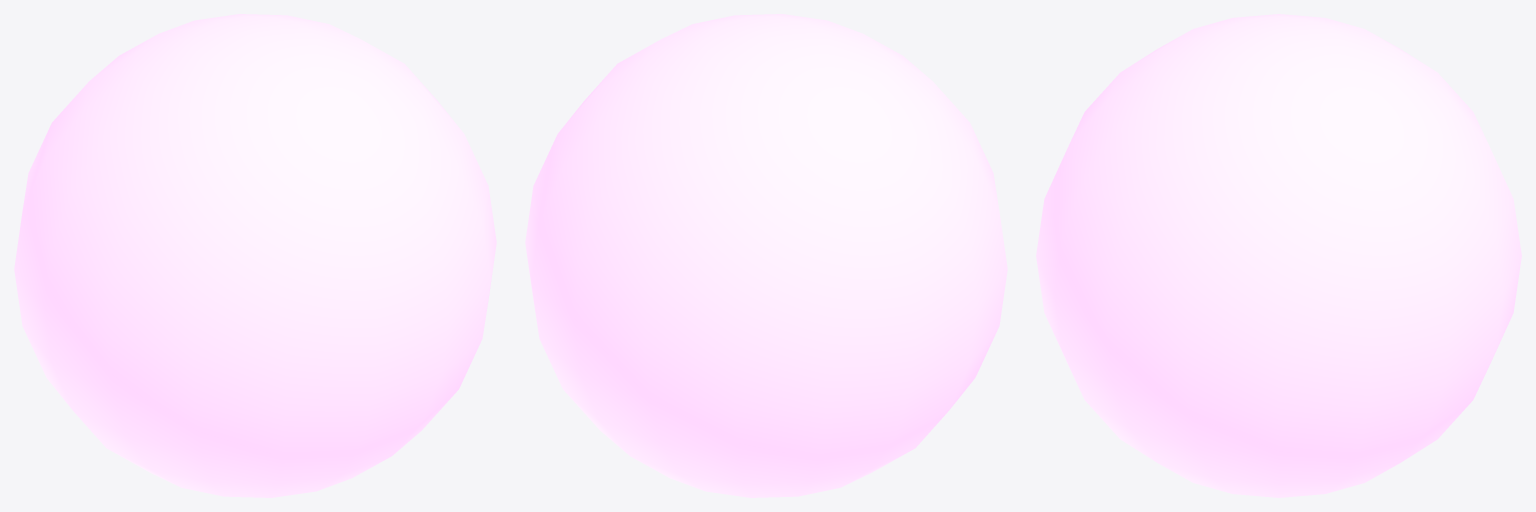
Rendered from energy_orb.glb.
The picture shows the model from 3 angles, left to right: view 1: azimuth 30°, elevation 25°; view 2: azimuth 150°, elevation 25°; view 3: azimuth 270°, elevation 25°; orthographic projection.
Parts seen in each view (by area): view 1: energy_orb; view 2: energy_orb; view 3: energy_orb.
Boxes of the visible parts, <box> form: energy_orb: <box>14,14,496,497</box>; energy_orb: <box>525,14,1007,497</box>; energy_orb: <box>1036,14,1521,497</box>.
Size of the model in its own units: 0.9 by 0.9 by 0.9.
